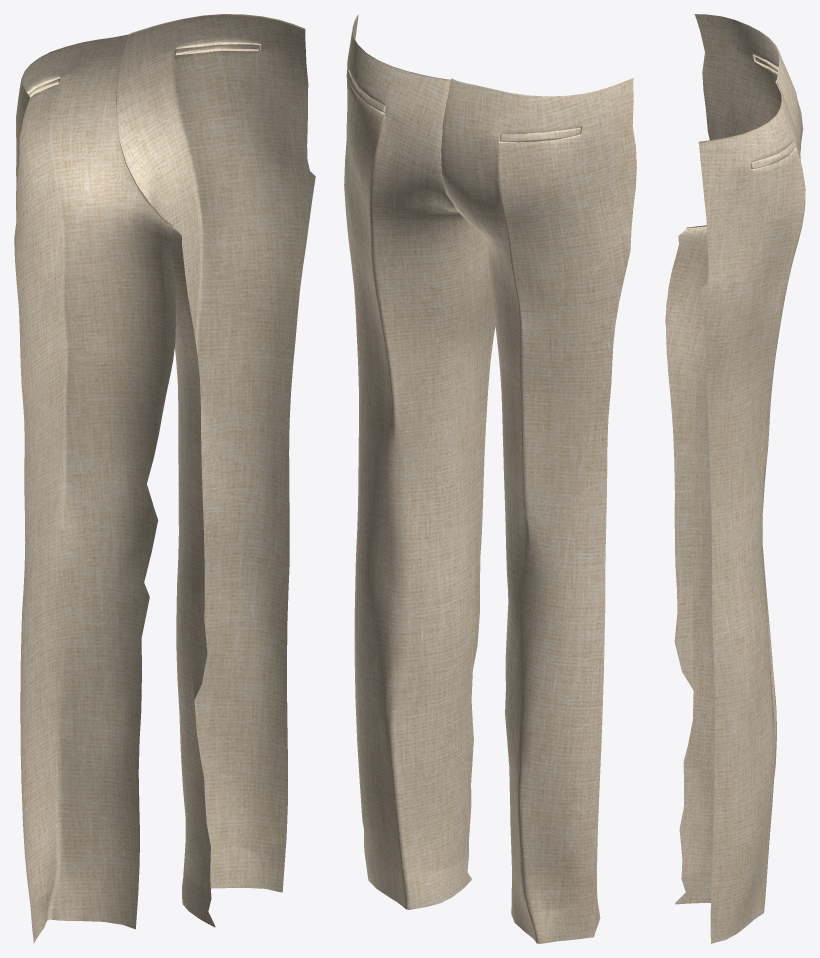
Rendered from Back_side.glb.
The picture shows the model from 3 angles, left to right: view 1: azimuth 30°, elevation 25°; view 2: azimuth 150°, elevation 25°; view 3: azimuth 270°, elevation 25°; orthographic projection. The views are drawn at different scales.
Parts seen in each view (by area): view 1: Back_side; view 2: Back_side; view 3: Back_side.
Boxes of the visible parts, x1,y1,x2,y2 form: Back_side: [14, 14, 315, 943]; Back_side: [344, 14, 636, 943]; Back_side: [665, 14, 805, 943].
Bounding box in the file's own units: 0.0482 × 0.1343 × 0.021.
Materials: 1 (1 with a texture image).
